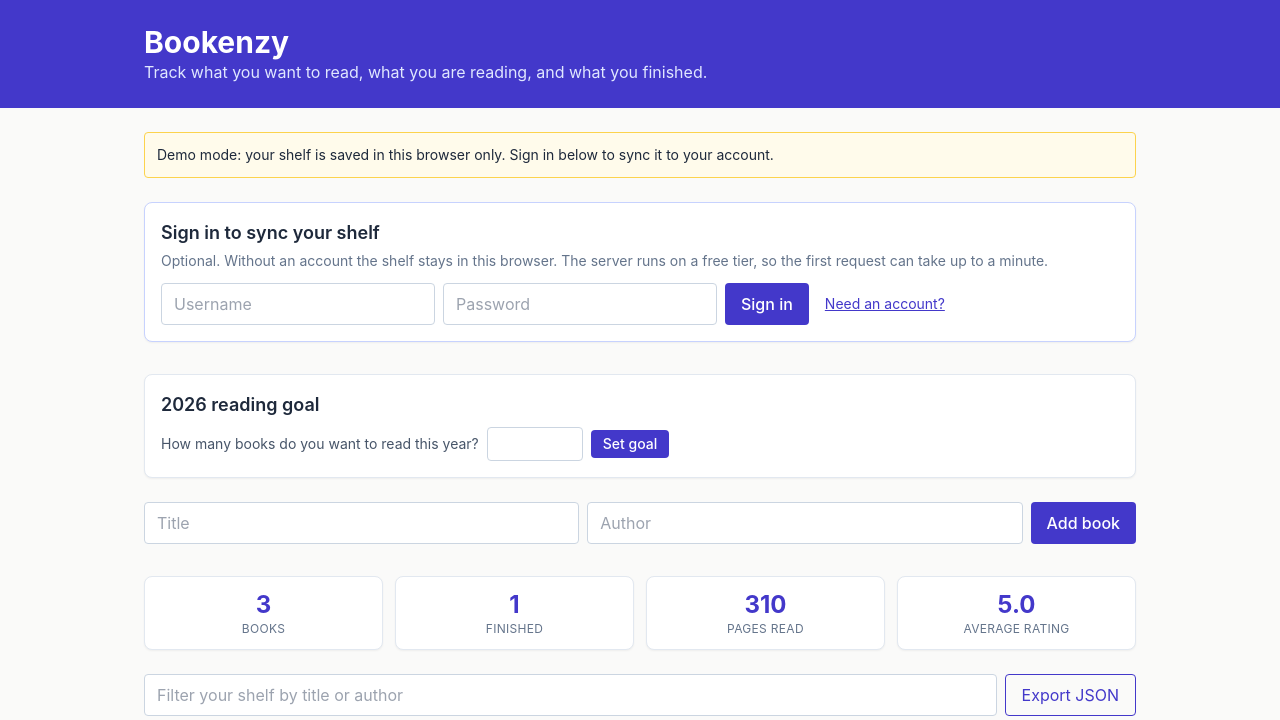
Test: sets a reading goal and shows progress
The width and height of the screenshot is (1280, 720).
Type "5" into the number field named "Goal in books". click: (535, 444)
box: [487,427,583,461]
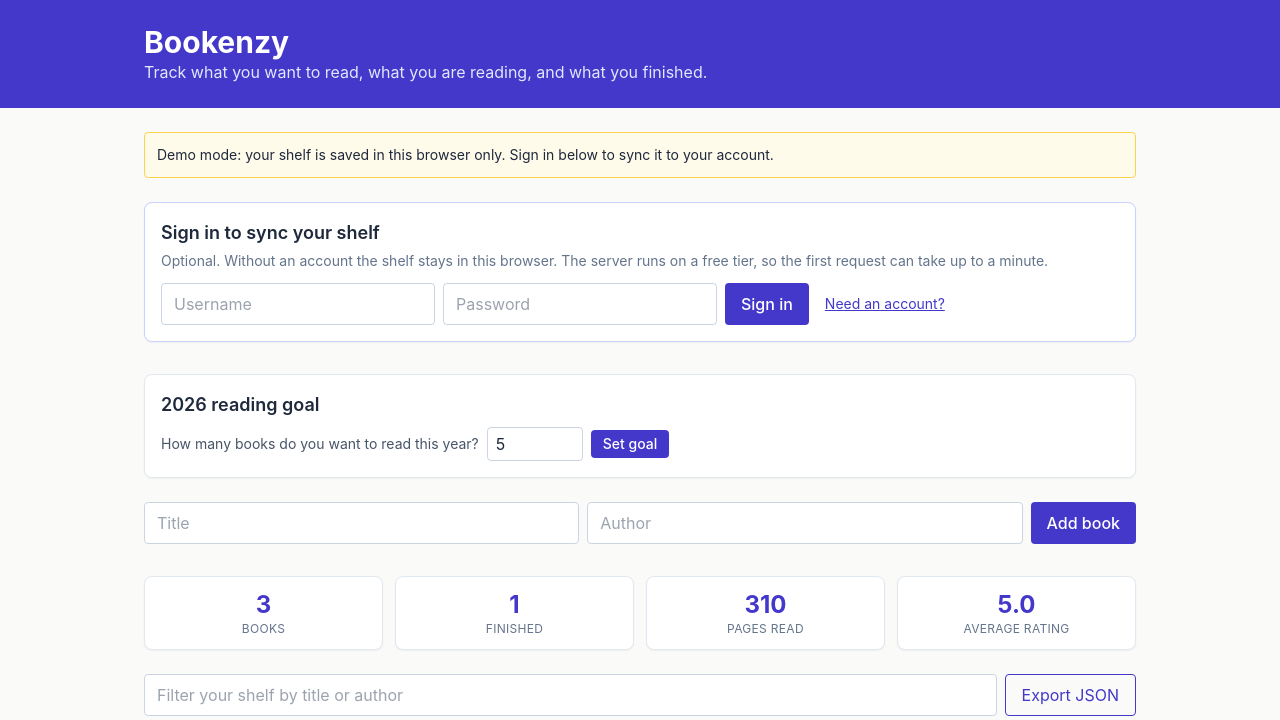
Submit the form named "set reading goal", box [161,427,669,461]
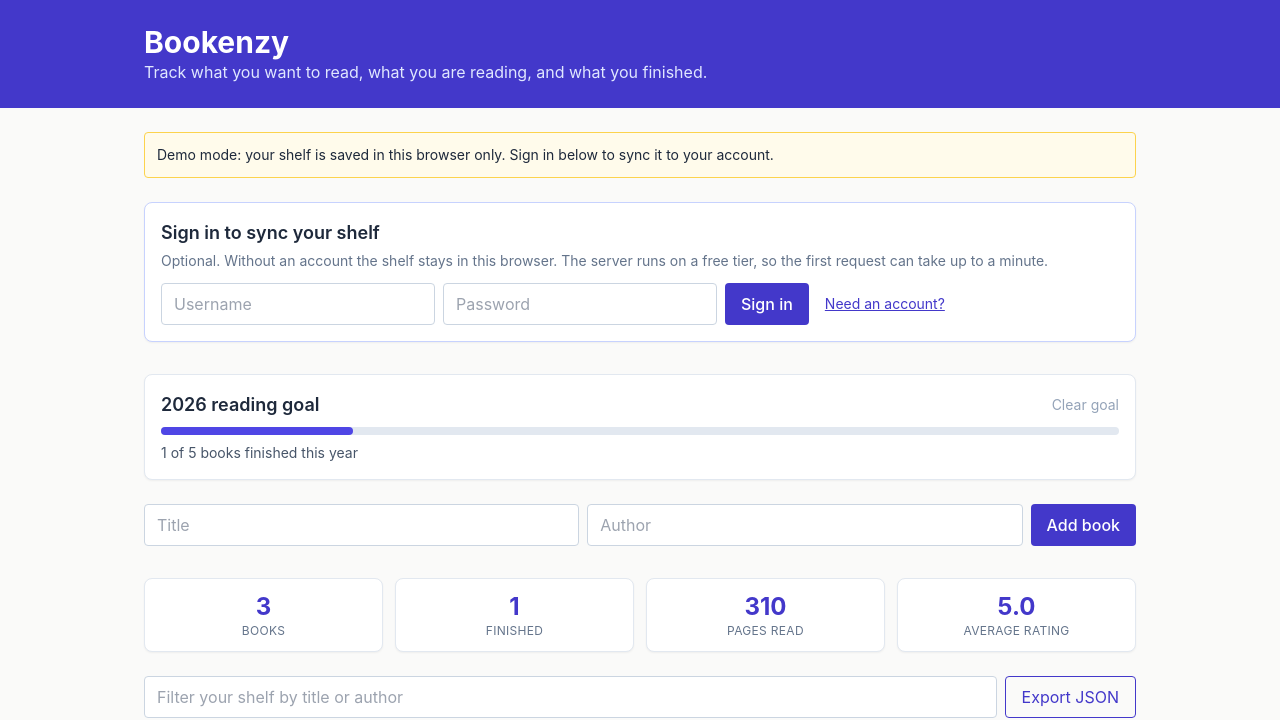
Expected: the element "2026 reading goal Clear goal 1 of 5 books finished this year" is shown, [144,374,1136,480]
